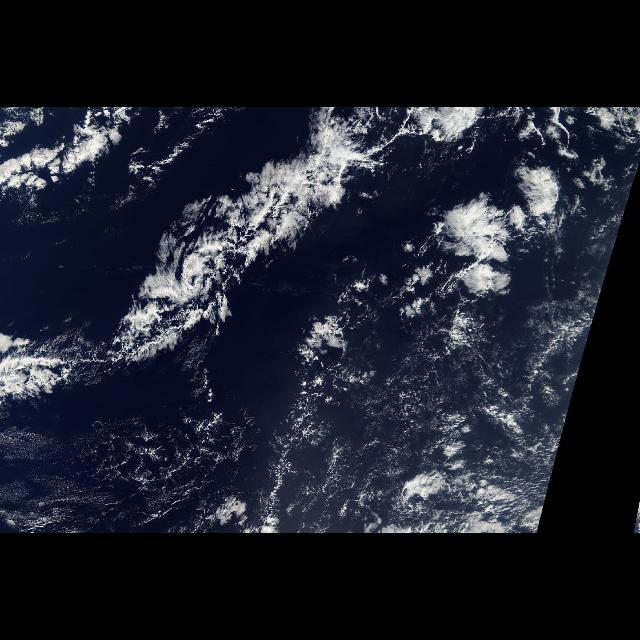Fish: (80, 120, 378, 386)
